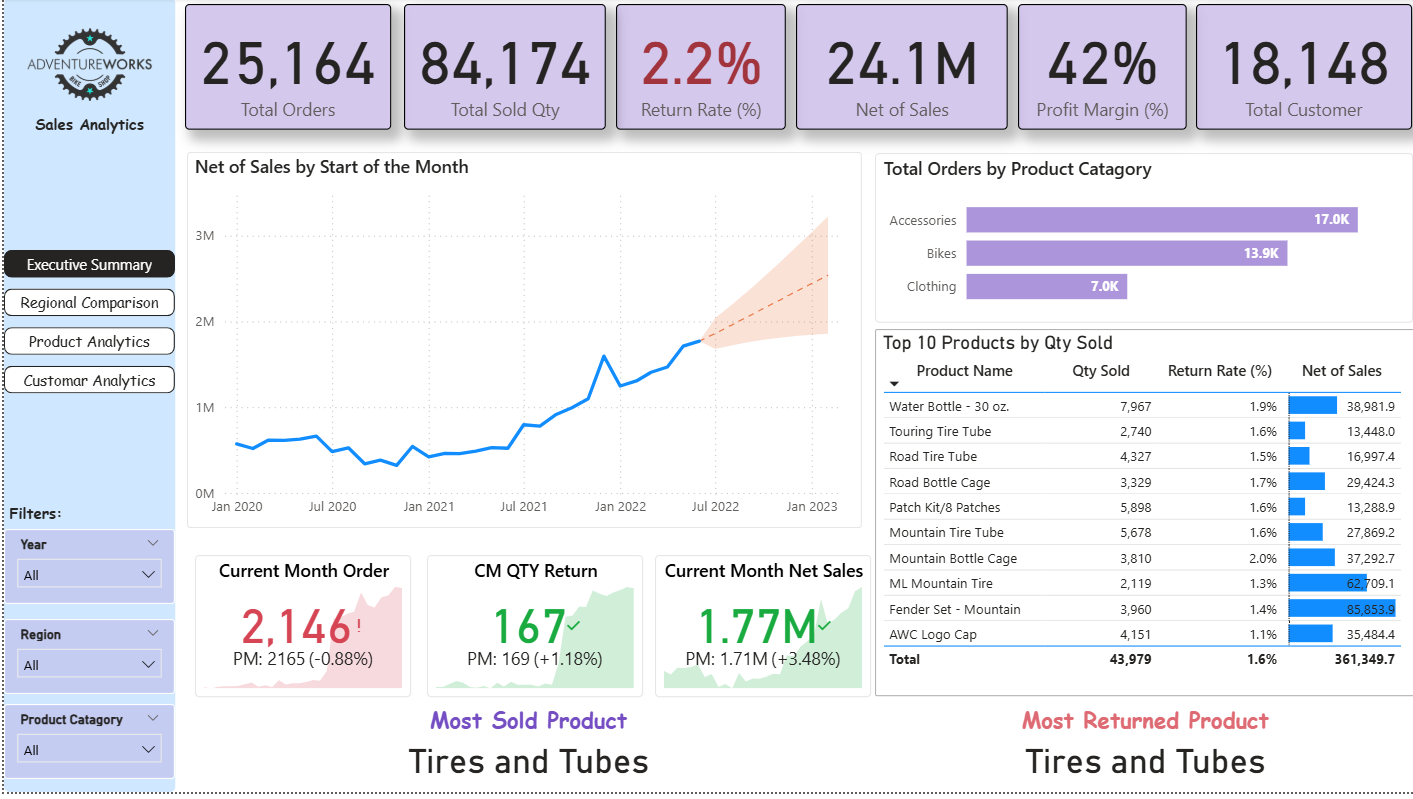

This screenshot's page, from the dashboard's own definition file:
{"tool":"powerbi","page":{"name":"Executive Summary","canvas":[1280,720],"ordinal":0},"visuals":[{"type":"shape","box":[0,0,155.6,720],"z":0},{"type":"textbox","box":[12.7,99.7,129.7,39.9],"z":1000},{"type":"image","box":[0,20.9,155.1,78.9],"z":2000},{"type":"slicer","fields":{"Values":["Dim_Date.Year"]},"box":[0,481.4,155.1,68],"z":3000},{"type":"slicer","fields":{"Values":["Dim_Territory.Region"]},"box":[0,563,155.1,68],"z":4000},{"type":"slicer","fields":{"Values":["Dim_Product Categories.CategoryName"]},"box":[0,640.1,155.1,68],"z":5000},{"type":"textbox","box":[0,452.5,129.7,29],"z":6000},{"type":"pageNavigator","box":[0,228.5,155.1,131.5],"z":7000},{"type":"card","fields":{"Values":["_Dax Measure.Total Orders"]},"box":[164.4,5.6,186.7,114.4],"z":8000},{"type":"card","fields":{"Values":["_Dax Measure.Return Rate (%)"]},"box":[554.6,5.6,154.5,114.4],"z":9000},{"type":"card","fields":{"Values":["_Dax Measure.Net of Sales"]},"box":[718,5.6,192.3,114.4],"z":10000},{"type":"card","fields":{"Values":["_Dax Measure.Profit Margin (%)"]},"box":[919.1,5.6,153.4,114.4],"z":11000},{"type":"card","fields":{"Values":["_Dax Measure.Total Customer"]},"box":[1081,5.6,195.6,114.4],"z":12000},{"type":"card","fields":{"Values":["_Dax Measure.Total Sold"]},"box":[362.3,5.6,183.4,114.4],"z":13000},{"type":"lineChart","fields":{"Y":["_Dax Measure.Net of Sales"],"Category":["Dim_Date.Start of the Month"]},"box":[165.6,140,612.2,341.1],"z":14000},{"type":"clusteredBarChart","fields":{"Category":["Dim_Product Categories.Product Catagory"],"Y":["_Dax Measure.Total Orders"]},"box":[789.4,140.4,487.7,153.9],"z":15000},{"type":"tableEx","title":"Top 10 Products by Qty Sold","fields":{"Values":["Dim_ Product.ProductName","_Dax Measure.Total Sold Qty","_Dax Measure.Return Rate (%)","_Dax Measure.Net of Sales"]},"box":[790,300,490,333.3],"z":16000},{"type":"kpi","title":"Current Month Order","fields":{"TrendLine":["Dim_Date.Start of the Month"],"Indicator":["_Dax Measure.Total Orders"],"Goal":["_Dax Measure.PM Order"]},"box":[173.5,504.7,195.7,128.9],"z":17000},{"type":"kpi","title":"Current Month Net  Sales","fields":{"TrendLine":["Dim_Date.Start of the Month"],"Indicator":["_Dax Measure.Net of Sales"],"Goal":["_Dax Measure.PM Net Sales"]},"box":[590.1,504.7,195.7,128.9],"z":18000},{"type":"kpi","title":"CM QTY Return","fields":{"TrendLine":["Dim_Date.Start of the Month"],"Indicator":["_Dax Measure.Total Qty Return"],"Goal":["_Dax Measure.PM Return"]},"box":[383.5,504.7,195.6,128.9],"z":19000},{"type":"card","title":"Most Sold Product","fields":{"Values":["Min(Dim_Subcategories.SubcategoryName)"]},"box":[231.5,640.4,488.9,70.2],"z":20000},{"type":"card","title":"Most Returned Product","fields":{"Values":["Min(Dim_Subcategories.SubcategoryName)"]},"box":[789.4,640.4,490.2,70.2],"z":21000}]}

Visuals, with their boxes in screenshot pixels (x1, y1, x2, y2), scaled from the page's 1280x720 canvas onto the 1413x799 screenshot:
shape: {"left": 0, "top": 0, "right": 172, "bottom": 798}
textbox: {"left": 14, "top": 111, "right": 157, "bottom": 155}
image: {"left": 0, "top": 23, "right": 171, "bottom": 111}
slicer - Dim_Date.Year: {"left": 0, "top": 534, "right": 171, "bottom": 610}
slicer - Dim_Territory.Region: {"left": 0, "top": 625, "right": 171, "bottom": 700}
slicer - Dim_Product Categories.CategoryName: {"left": 0, "top": 710, "right": 171, "bottom": 786}
textbox: {"left": 0, "top": 502, "right": 143, "bottom": 534}
pageNavigator: {"left": 0, "top": 254, "right": 171, "bottom": 400}
card - _Dax Measure.Total Orders: {"left": 181, "top": 6, "right": 388, "bottom": 133}
card - _Dax Measure.Return Rate (%): {"left": 612, "top": 6, "right": 783, "bottom": 133}
card - _Dax Measure.Net of Sales: {"left": 793, "top": 6, "right": 1005, "bottom": 133}
card - _Dax Measure.Profit Margin (%): {"left": 1015, "top": 6, "right": 1184, "bottom": 133}
card - _Dax Measure.Total Customer: {"left": 1193, "top": 6, "right": 1409, "bottom": 133}
card - _Dax Measure.Total Sold: {"left": 400, "top": 6, "right": 602, "bottom": 133}
lineChart - _Dax Measure.Net of Sales x Dim_Date.Start of the Month: {"left": 183, "top": 155, "right": 859, "bottom": 534}
clusteredBarChart - Dim_Product Categories.Product Catagory x _Dax Measure.Total Orders: {"left": 871, "top": 156, "right": 1410, "bottom": 327}
"Top 10 Products by Qty Sold" tableEx: {"left": 872, "top": 333, "right": 1412, "bottom": 703}
"Current Month Order" kpi: {"left": 192, "top": 560, "right": 408, "bottom": 703}
"Current Month Net  Sales" kpi: {"left": 651, "top": 560, "right": 867, "bottom": 703}
"CM QTY Return" kpi: {"left": 423, "top": 560, "right": 639, "bottom": 703}
"Most Sold Product" card: {"left": 256, "top": 711, "right": 795, "bottom": 789}
"Most Returned Product" card: {"left": 871, "top": 711, "right": 1412, "bottom": 789}
